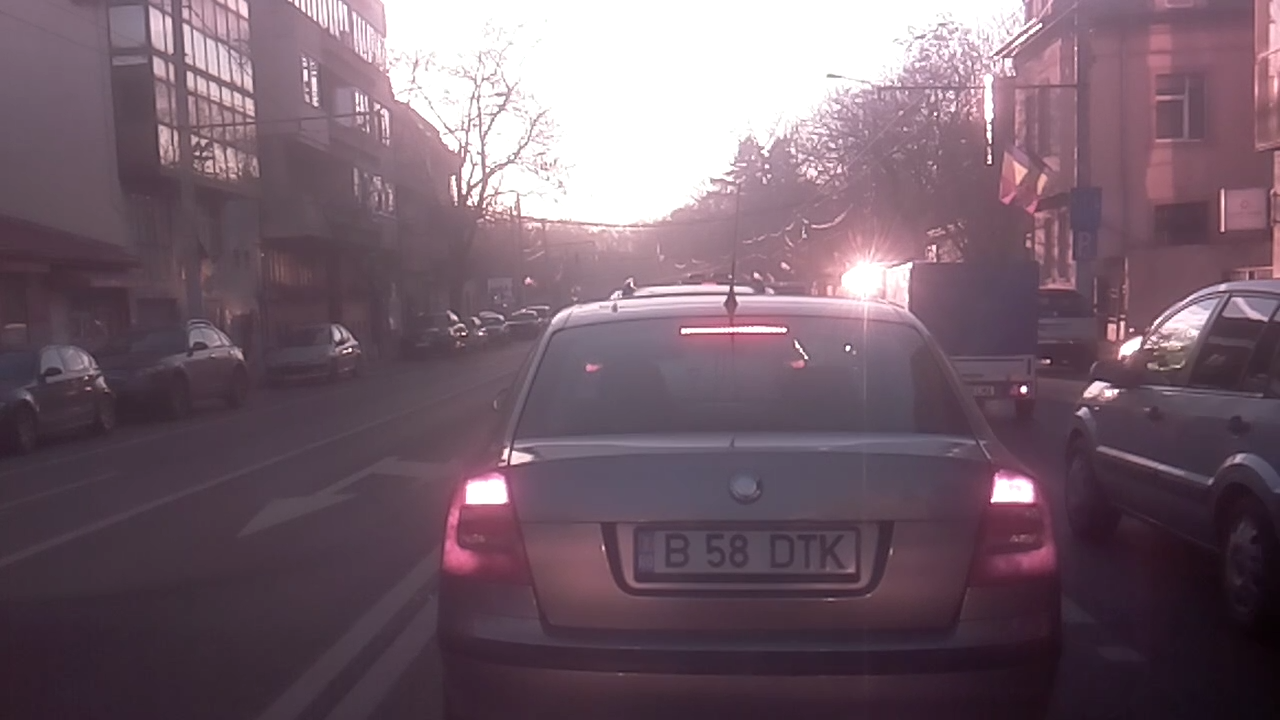license-plate: (625, 520, 868, 587)
